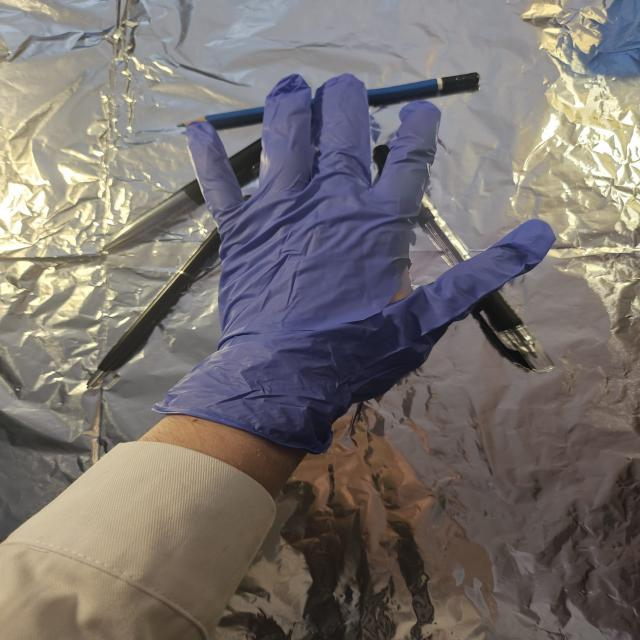gloves_damaged: (149, 73, 554, 456)
